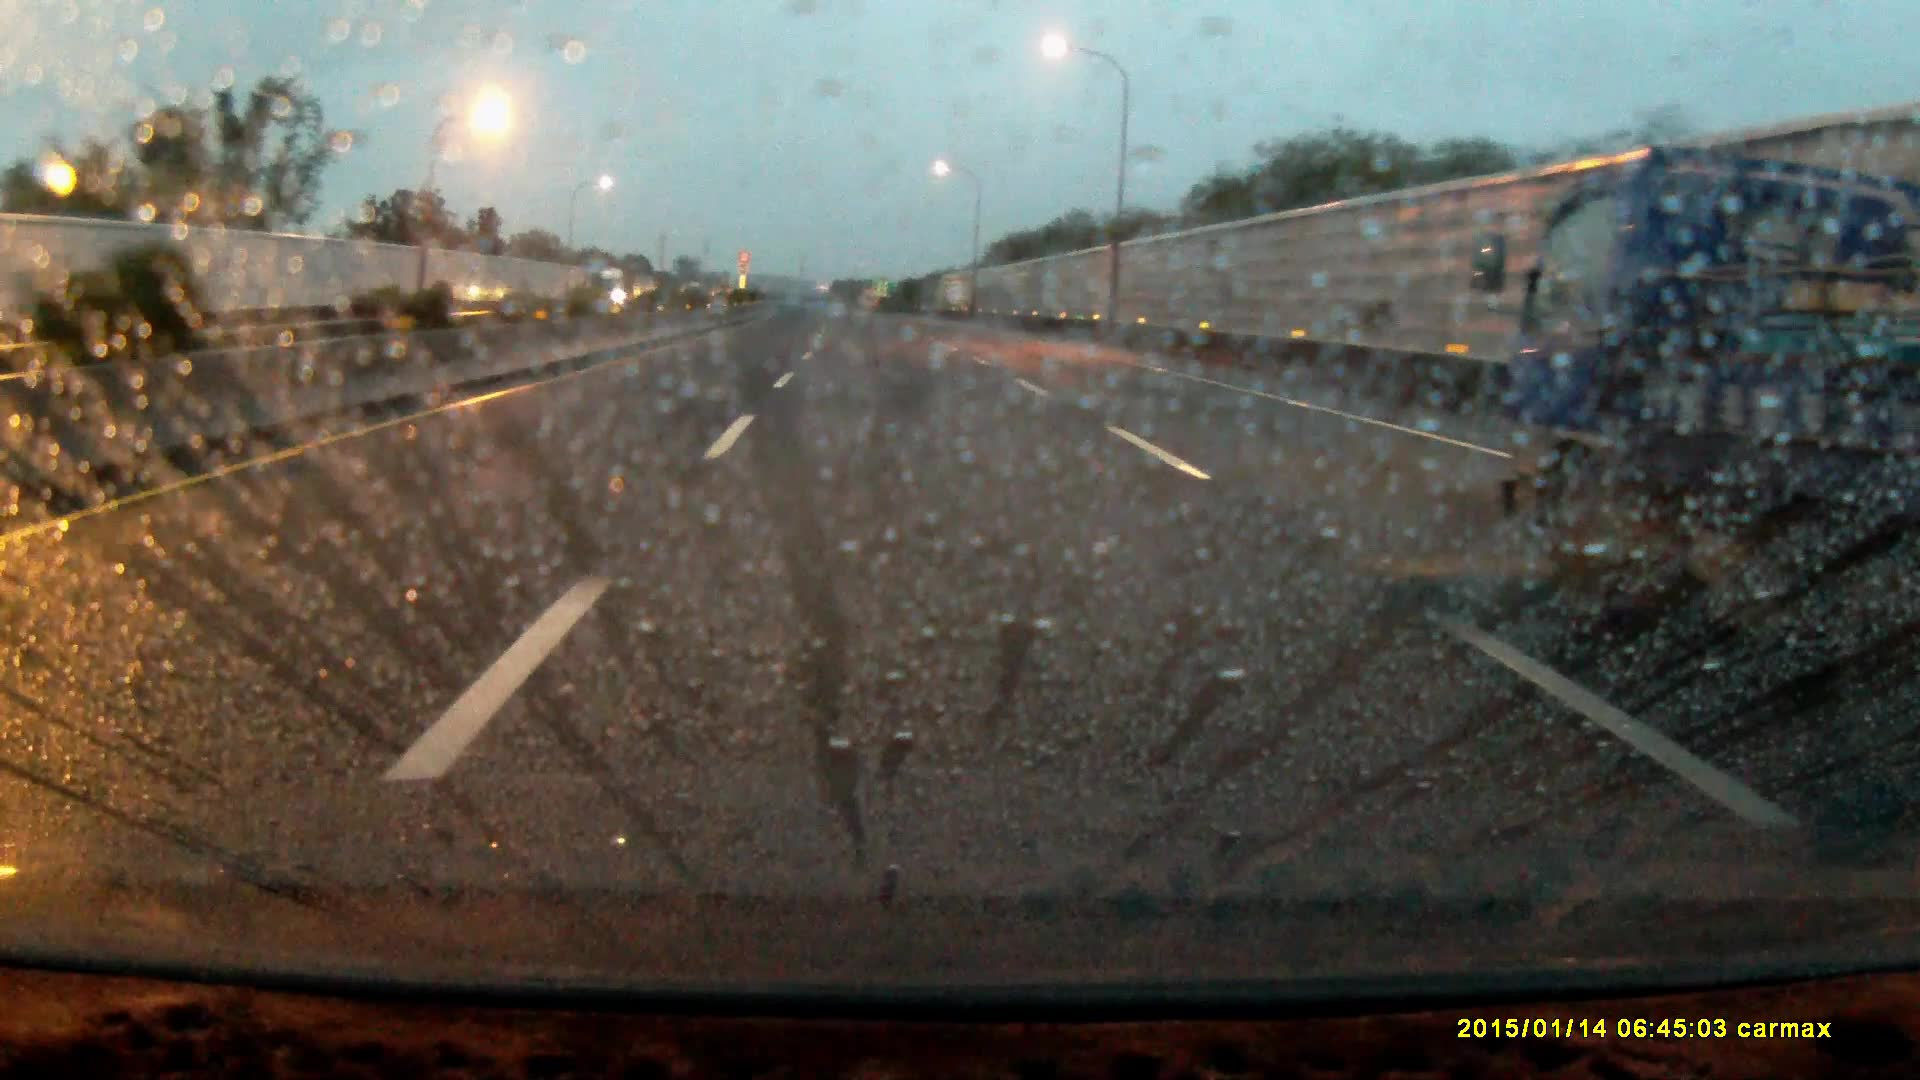vehicle: (1510, 150, 1920, 607), (595, 268, 634, 306)
